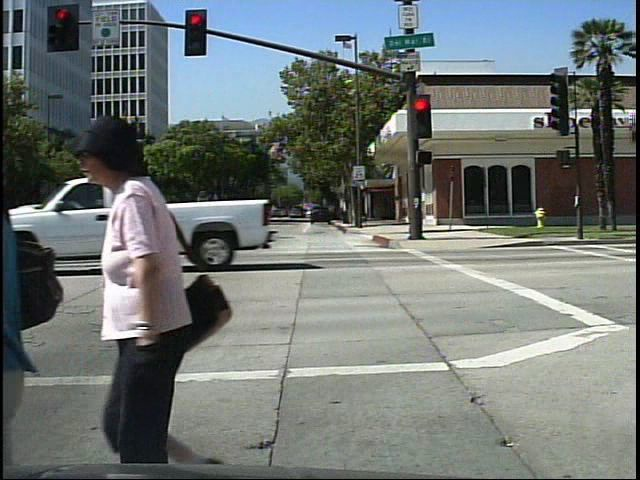person: (70, 108, 249, 470), (0, 83, 52, 470)
